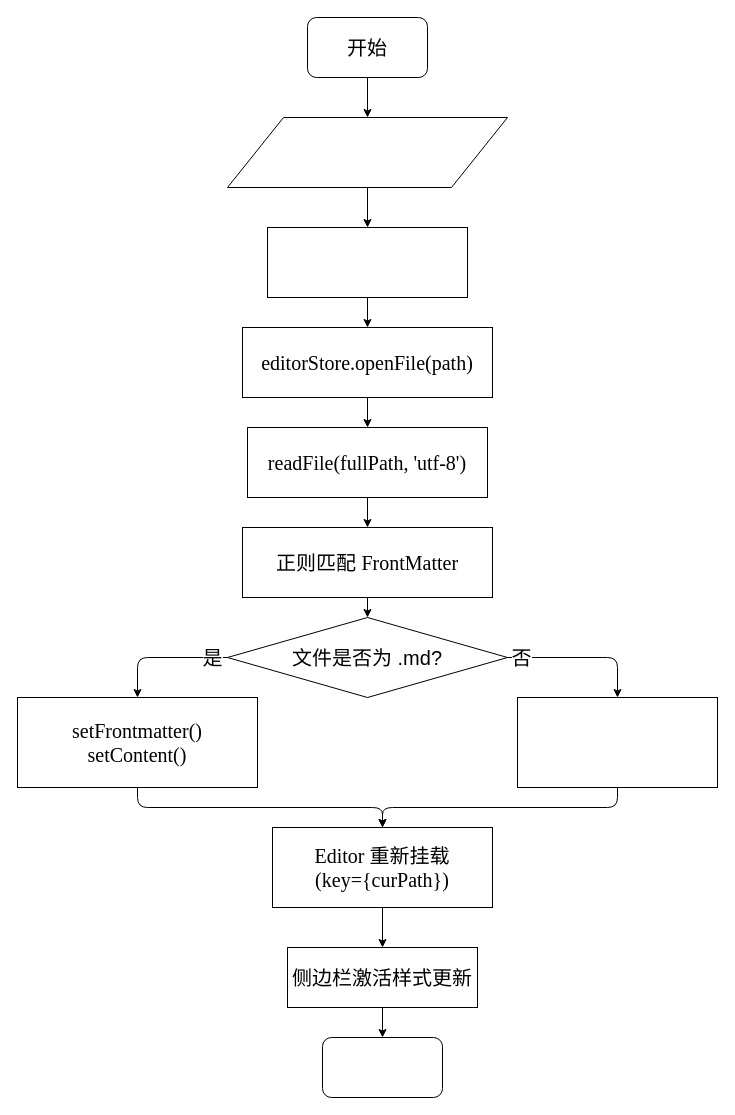
This 735x1115 diagram has some shape labels left out. The shapes that lost their labels are listed below. From the top down, each one's box as (x1, y1, x2, y2) in pixels, then its label:
(226, 116, 508, 188): 用户双击侧边栏文件
(266, 226, 468, 298): 获取节点 path 属性
(516, 696, 718, 788): 清空编辑器状态
(322, 1036, 442, 1098): 结束
